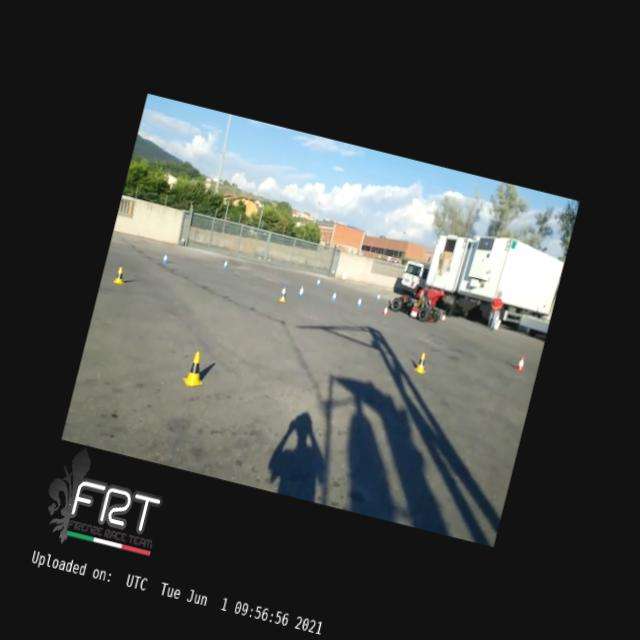blue_cone: (298, 284, 304, 296), (162, 253, 169, 263), (280, 286, 286, 297), (331, 290, 337, 300), (356, 297, 362, 307)
orange_cone: (516, 356, 526, 372), (380, 304, 390, 316), (438, 310, 448, 322)
yellow_cone: (182, 351, 210, 388), (414, 352, 428, 372), (114, 266, 126, 284), (278, 290, 288, 303)
